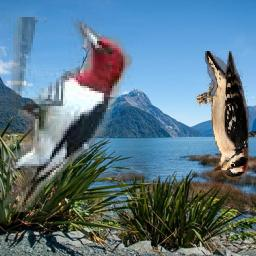Woodpecker: (0, 18, 133, 213), (195, 51, 249, 181)
